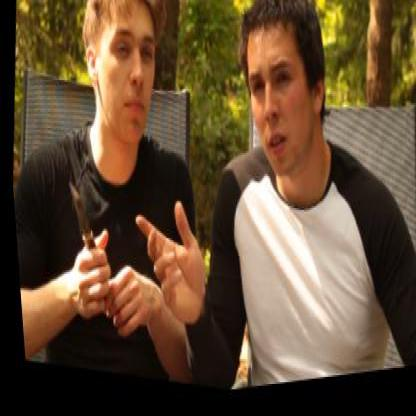knife: (50, 155, 116, 302)
